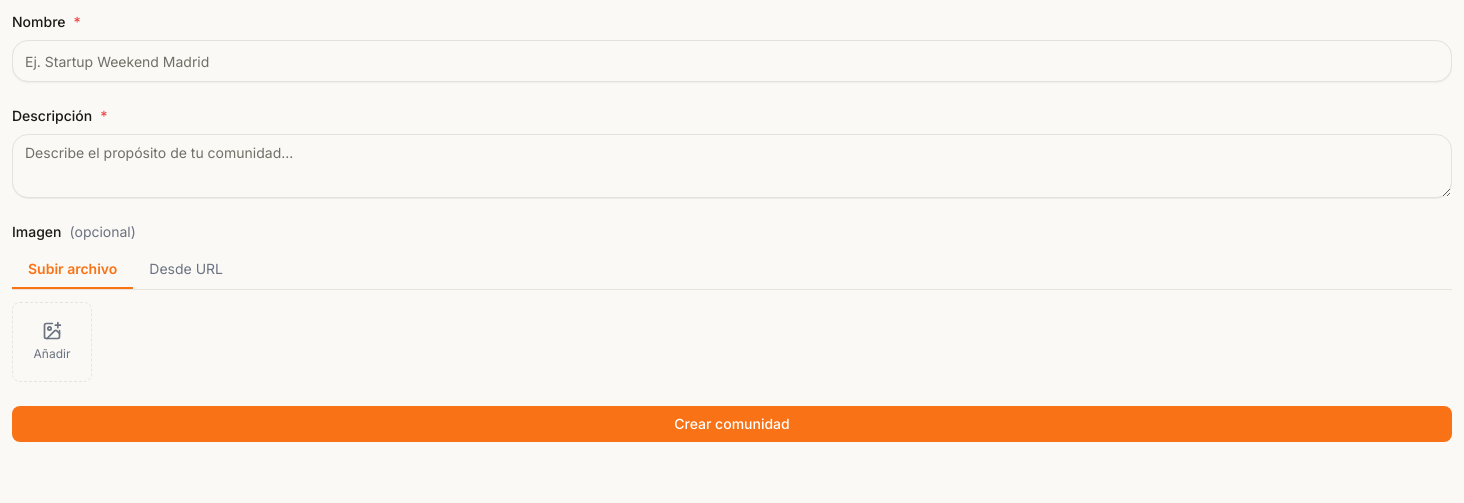
CommunityForm — ApiError con código distinto de COMMUNITY_NAME_TAKEN › muestra el mensaje de error en el párrafo global de serverError
Type "Mi Comunidad Test" into the field labelled "Nombre *" at {"x": 732, "y": 61}, box [12,40,1452,82]
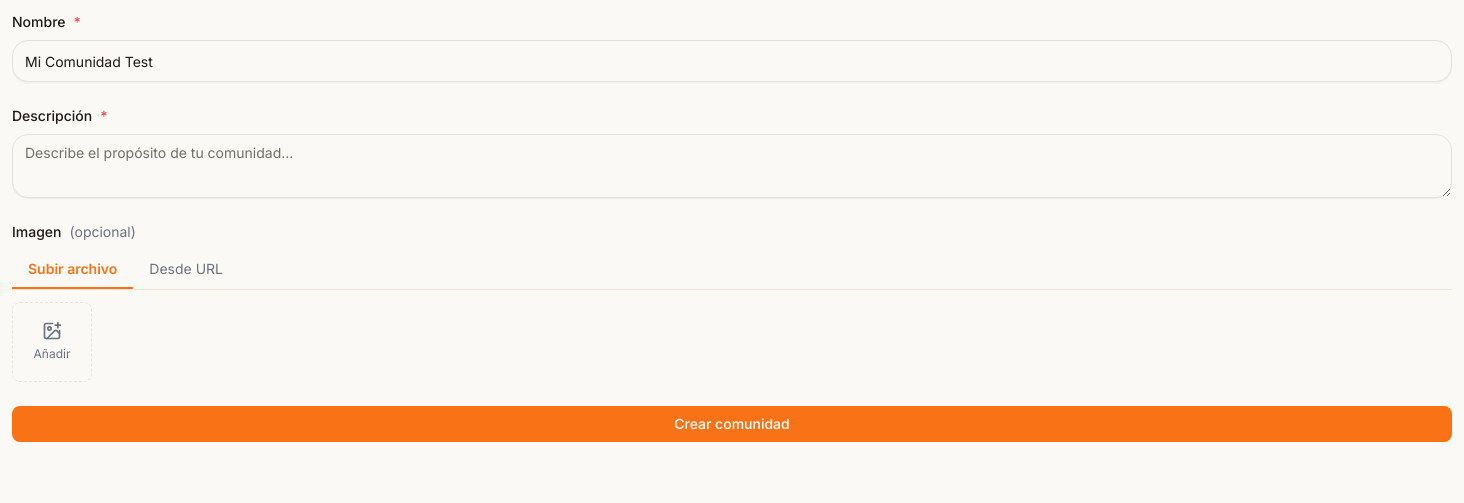
Type "Una descripción válida para la comunidad." into the text box labelled "Descripción *" at {"x": 732, "y": 166}, box [12,134,1452,198]
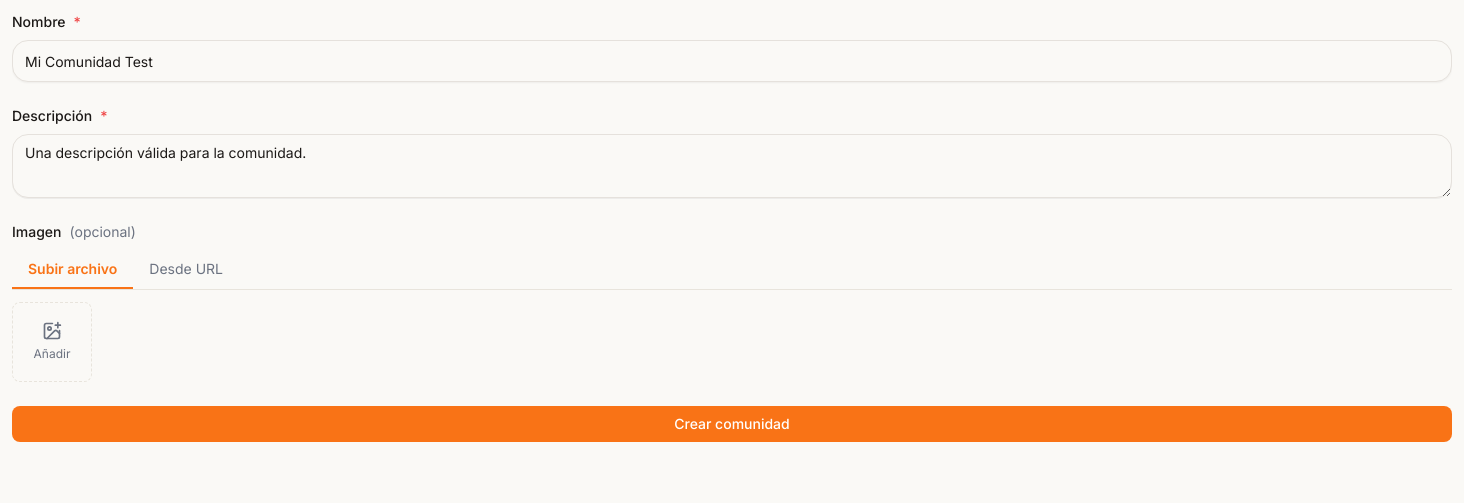
Click the button "Crear comunidad" at {"x": 732, "y": 424}, box [12,406,1452,442]
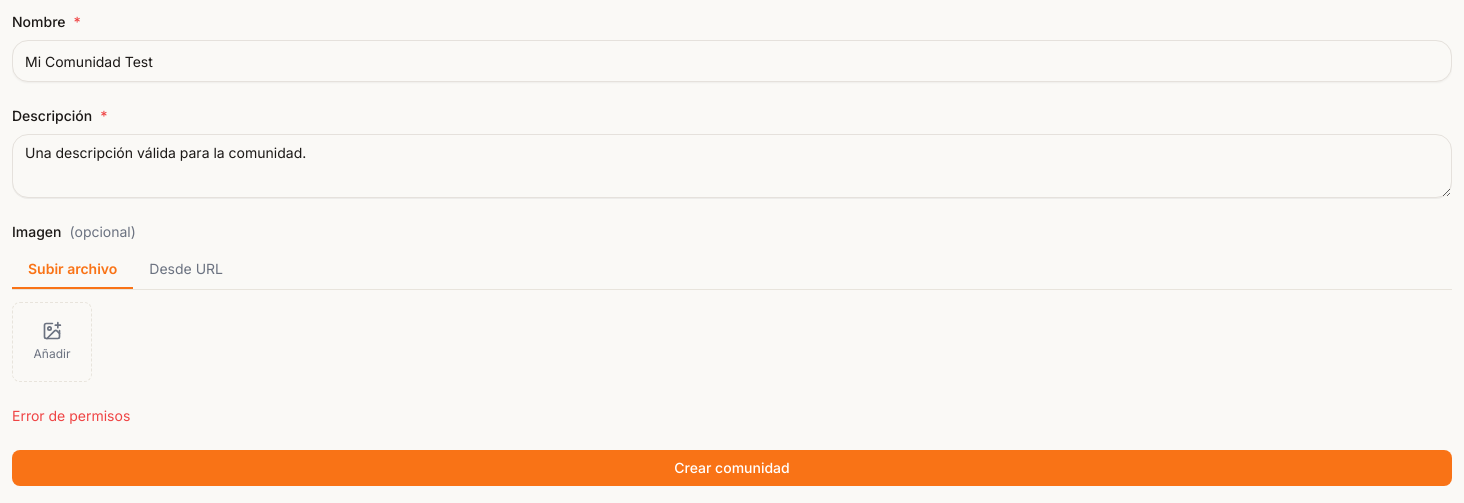
Expected: the message reads "Error de permisos", [12,407,130,424]
